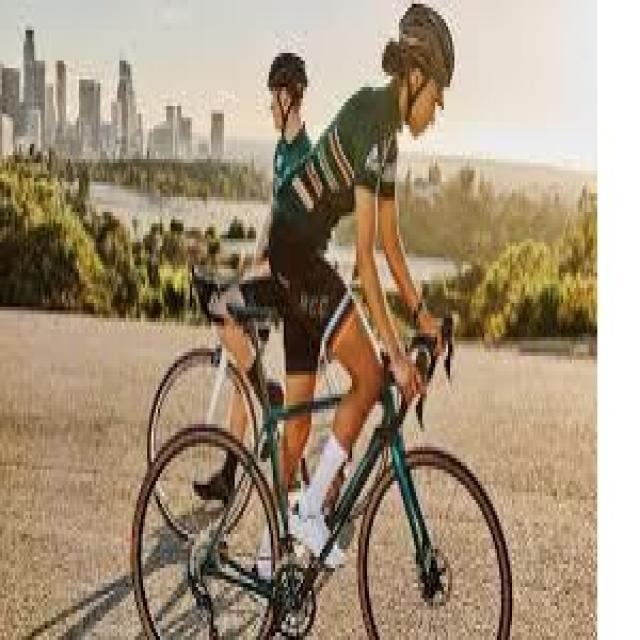bicycle: (137, 263, 511, 634)
